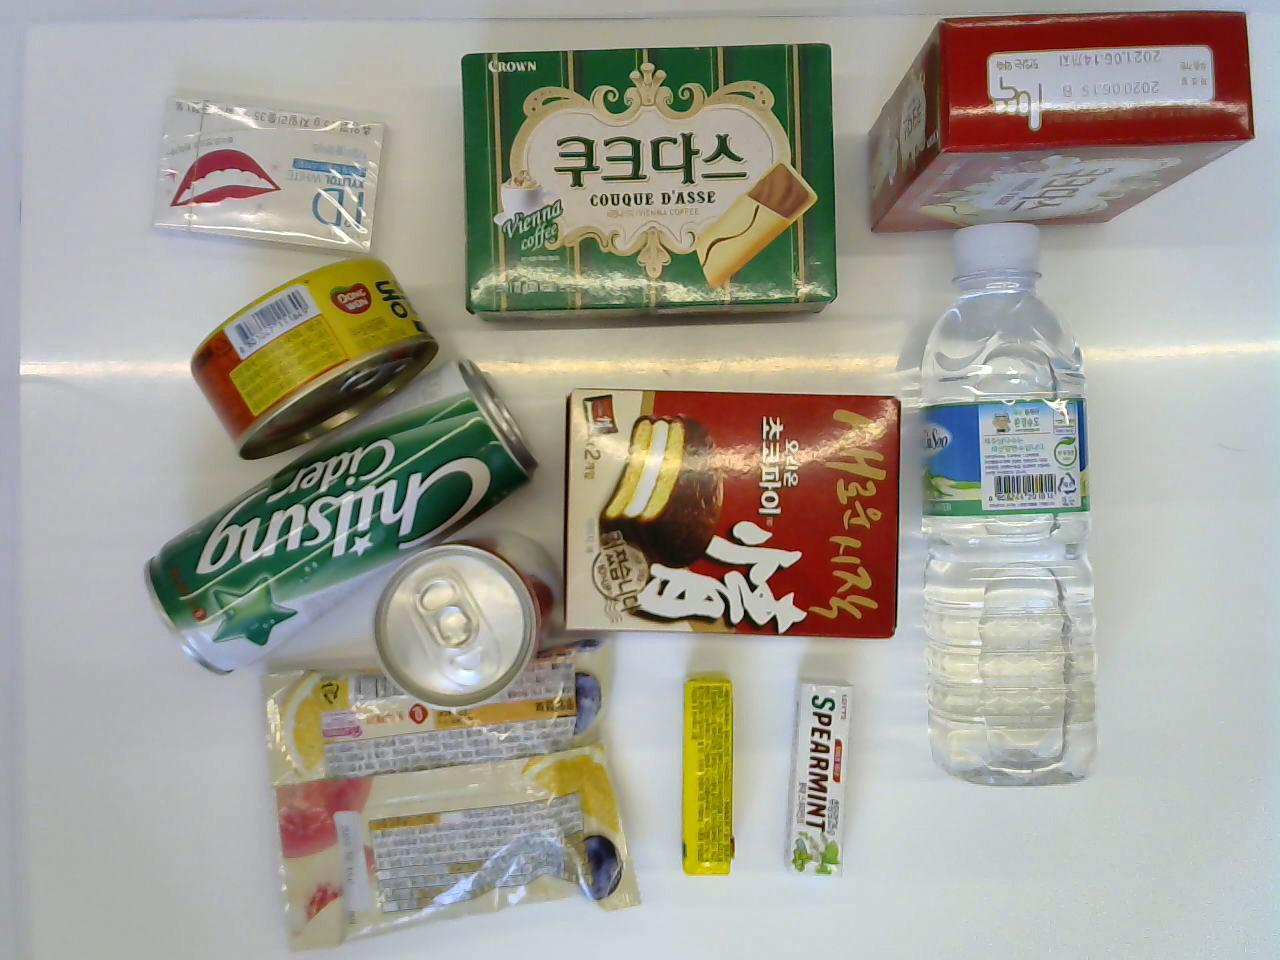ID_gum: (146, 92, 403, 255)
chocopie: (550, 376, 908, 649)
cidar: (145, 353, 532, 680)
coke: (375, 523, 564, 709)
couque_coffee: (449, 30, 845, 334)
couque_white: (857, 5, 1259, 239)
gumi_gumi: (253, 617, 643, 954)
juicyfresh: (673, 669, 743, 882)
samdasu: (898, 220, 1105, 796)
spearmint: (780, 674, 860, 886)
tuna: (188, 249, 441, 462)
